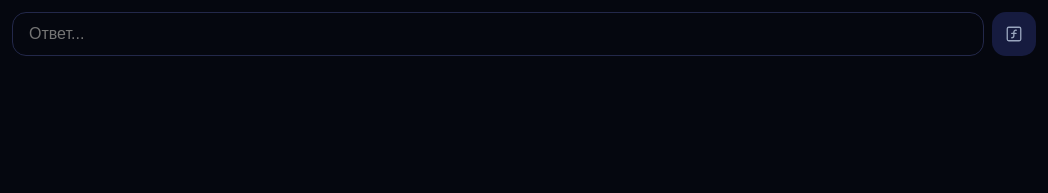
MathAnswerField › inserts the minus key as a plain ASCII "-", not the unicode "−" glyph — the answer checker matches exact characters
Click the button named "Математические символы" at {"x": 1014, "y": 34}, box [992,12,1036,56]
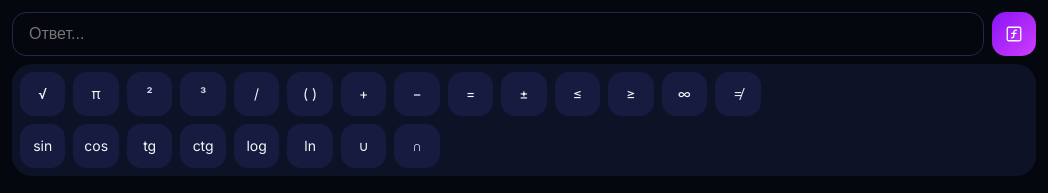
Click the button named "минус" at {"x": 417, "y": 94}, box [394,72,440,116]
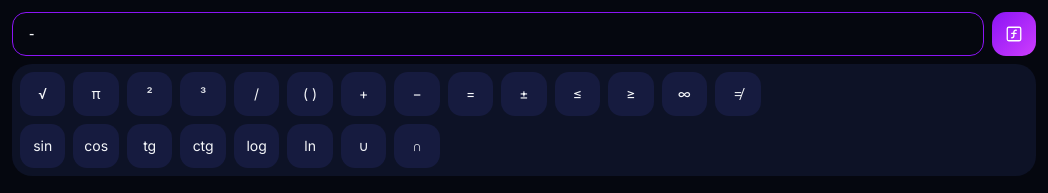
Click the button "π" at {"x": 96, "y": 94}, box [74,72,119,116]
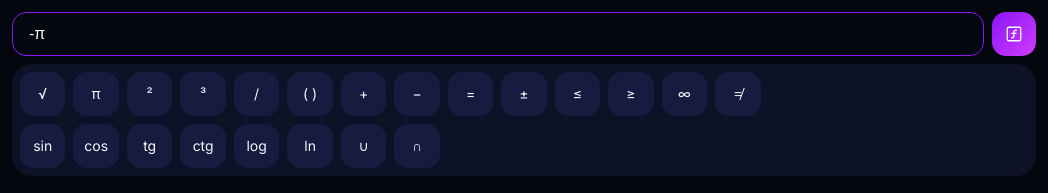
Expected: the field named "Ответ" holds "-π", [12,12,984,56]
